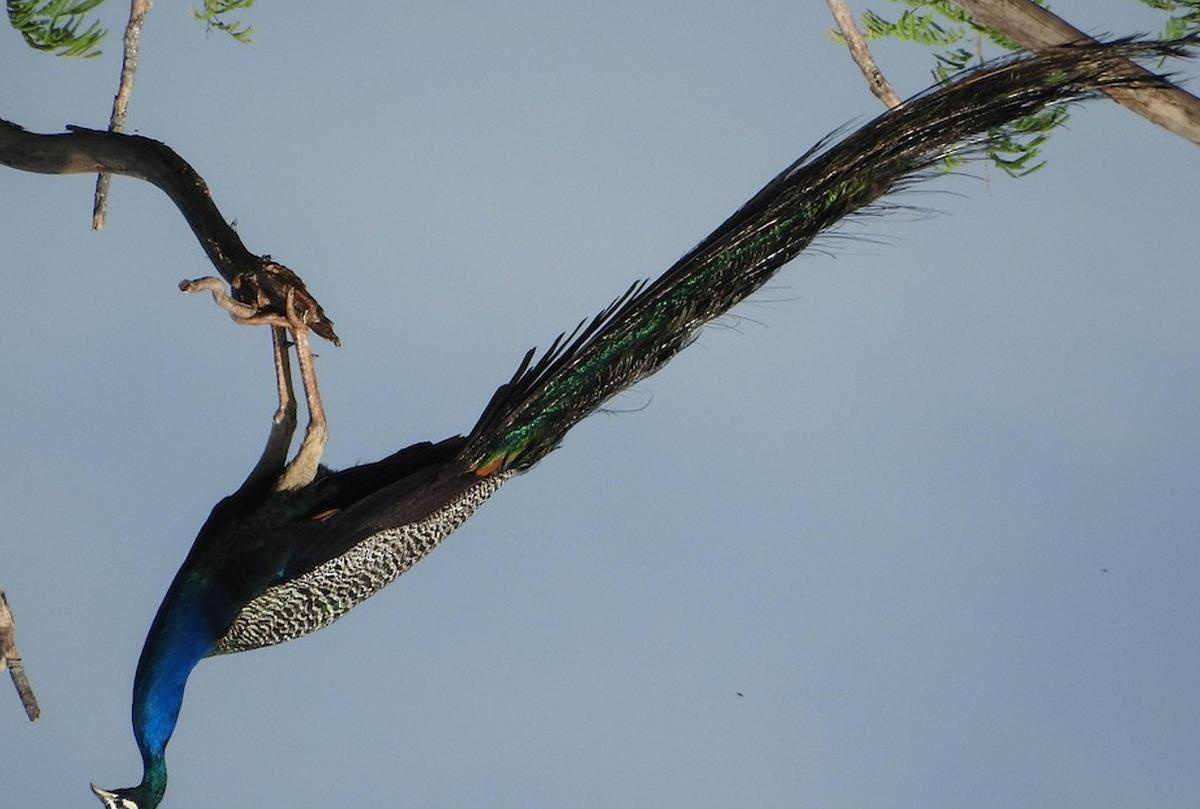peacock: (90, 12, 1158, 801)
